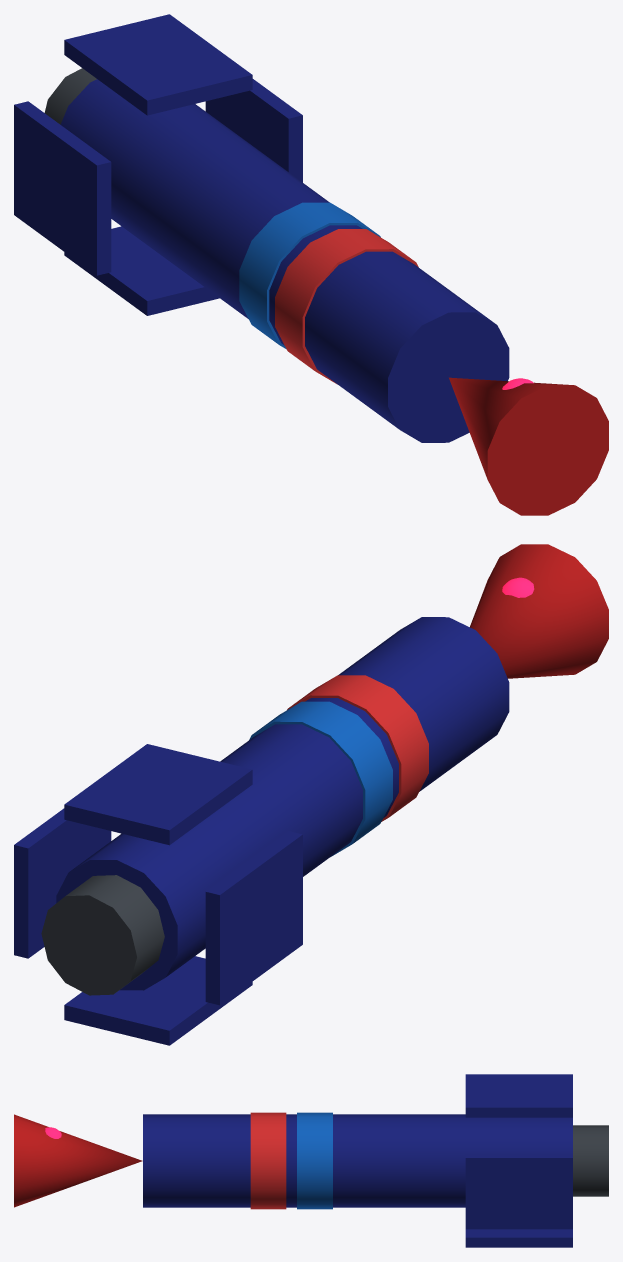
The model's file is law_missile.glb.
3 renders of one model, top to bottom at view 1: azimuth 30°, elevation 25°; view 2: azimuth 150°, elevation 25°; view 3: azimuth 270°, elevation 25°, orthographic. The views are drawn at different scales.
Visible parts, largest first — view 1: LawMissile_body; view 2: LawMissile_body; view 3: LawMissile_body.
Boxes of the visible parts, <box> form: LawMissile_body: <box>14,14,608,515</box>; LawMissile_body: <box>14,544,608,1045</box>; LawMissile_body: <box>14,1074,608,1247</box>.
Size of the model in its own units: 0.43 by 0.43 by 1.66.
